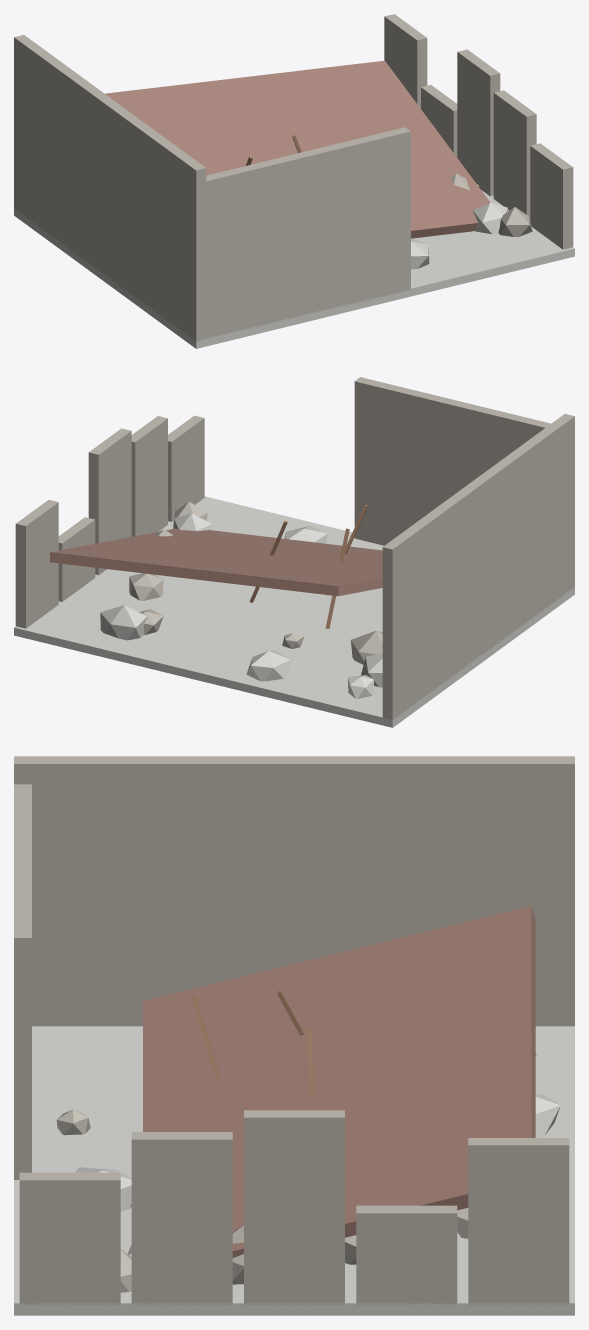
Rendered from house_ruin.glb.
The picture shows the model from 3 angles, top to bottom: view 1: azimuth 30°, elevation 25°; view 2: azimuth 150°, elevation 25°; view 3: azimuth 270°, elevation 25°; orthographic projection. The views are drawn at different scales.
Parts seen in each view (by area): view 1: house_ruin; view 2: house_ruin; view 3: house_ruin.
Boxes of the visible parts, x1,y1,x2,y2 form: house_ruin: (14, 14, 574, 348); house_ruin: (14, 377, 574, 727); house_ruin: (14, 756, 574, 1315).
Size of the model in its own units: 6 by 2.91 by 5.
